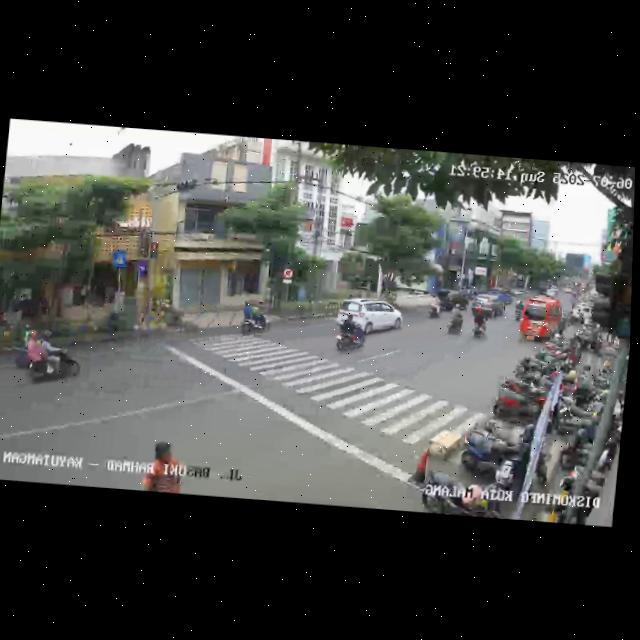car: (334, 295, 403, 339), (516, 294, 567, 344), (469, 293, 508, 318), (446, 289, 469, 310)
motorcycle: (17, 328, 84, 391), (332, 313, 367, 354), (240, 297, 274, 337), (445, 305, 465, 338), (468, 308, 490, 338), (425, 292, 442, 319), (513, 298, 524, 321)
person: (139, 437, 188, 493)
